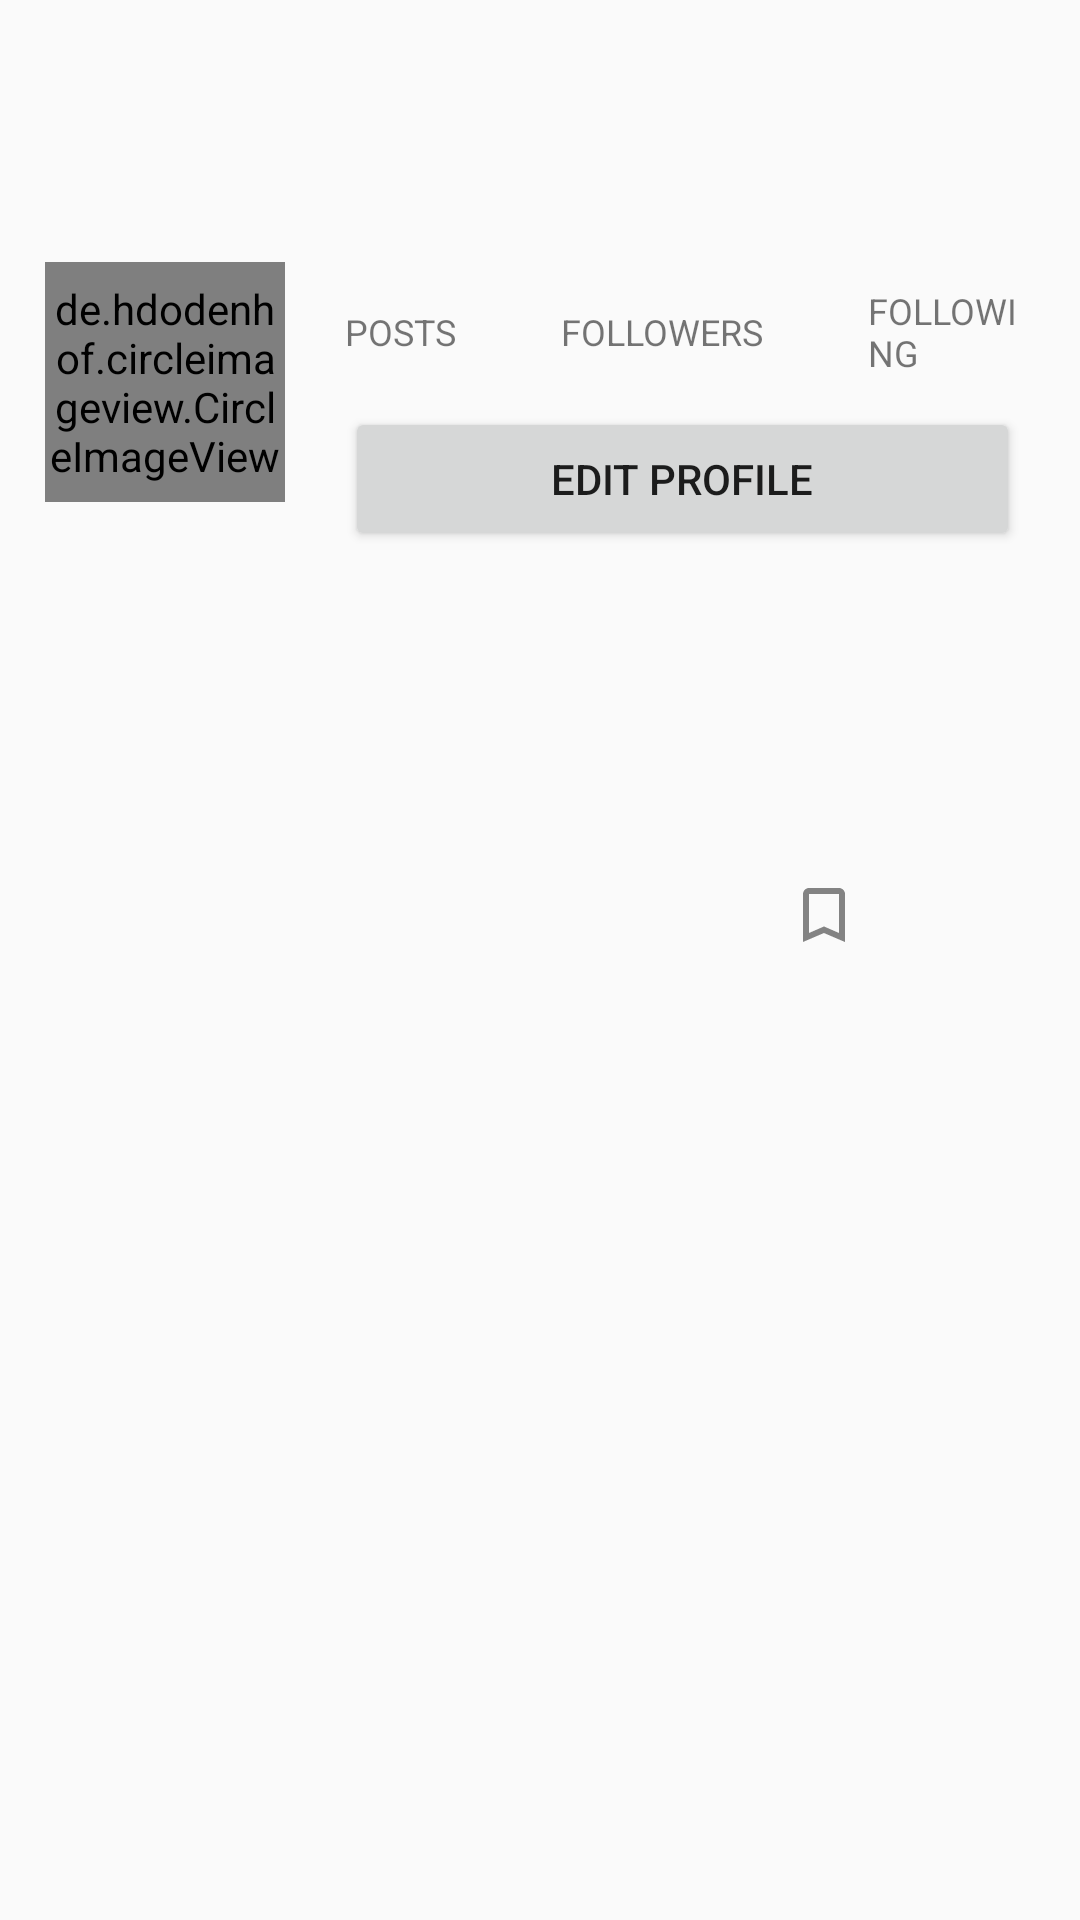

Where icons sit on this 1080px x 1920px app screen, as (x1, y1, x2, y2):
save: (803, 888, 845, 942)
